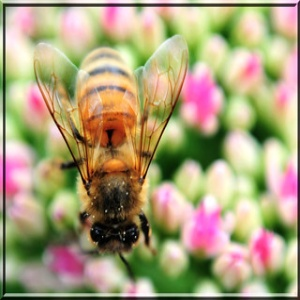bee: (35, 33, 189, 270)
